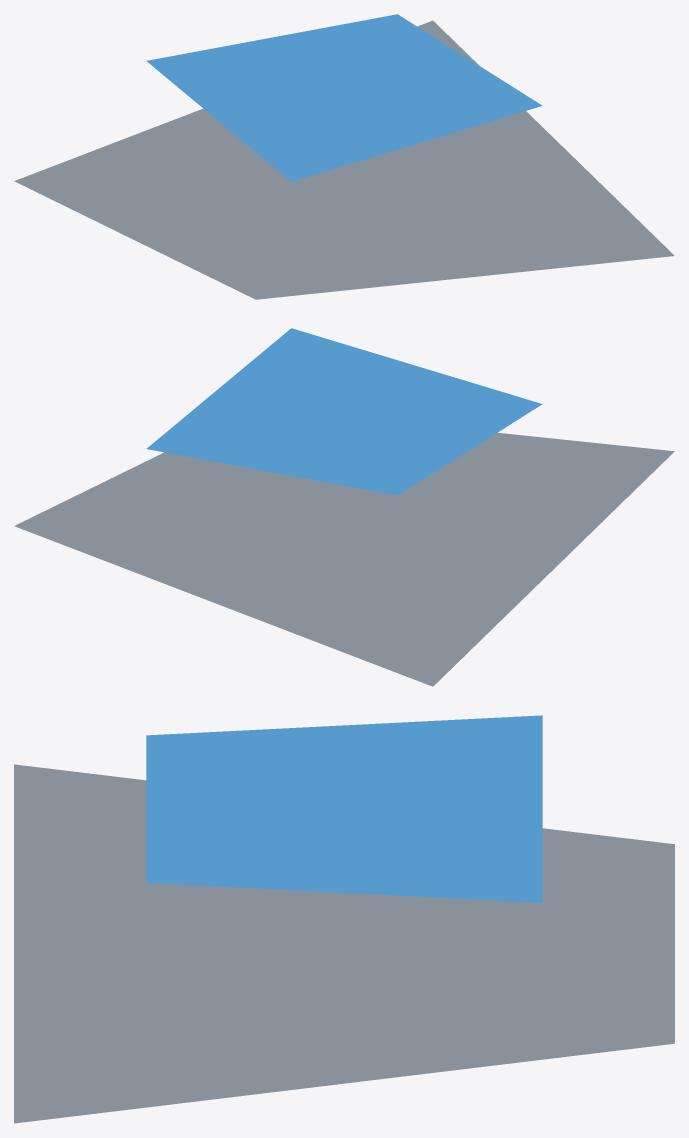
The model's file is AL_NavalYard_LOD2.glb.
3 renders of one model, top to bottom at view 1: azimuth 30°, elevation 25°; view 2: azimuth 150°, elevation 25°; view 3: azimuth 270°, elevation 25°, orthographic. The views are drawn at different scales.
Parts seen in each view (by area): view 1: EntranceGate; view 2: EntranceGate; view 3: EntranceGate.
Boxes of the visible parts, x1,y1,x2,y2 form: EntranceGate: [14, 14, 674, 299]; EntranceGate: [14, 328, 674, 686]; EntranceGate: [14, 715, 674, 1123].
Size of the model in its own units: 1000 by 308 by 1000.
